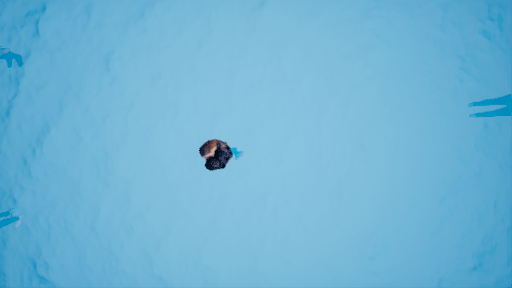person: (199, 138, 242, 175)
